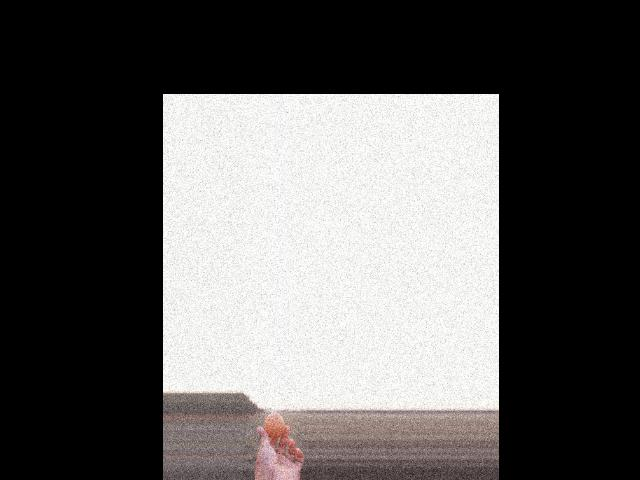egg: (264, 412, 285, 437)
